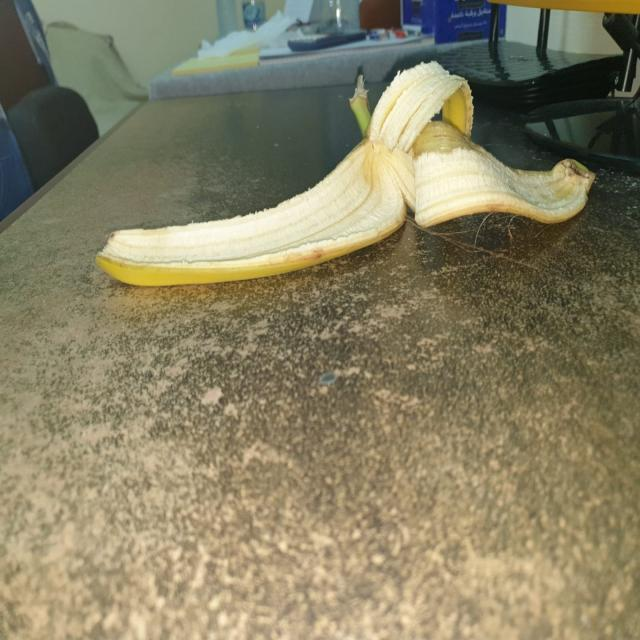banana-peel: (100, 60, 595, 289)
